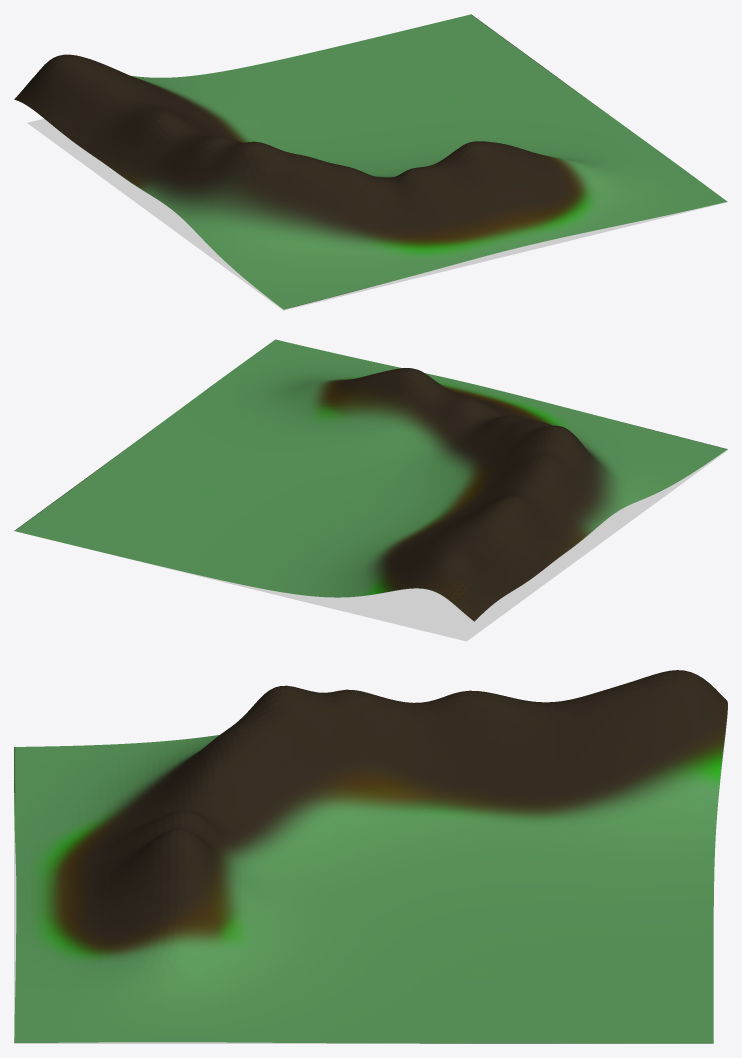
File: landscape.glb
3 renders of one model, top to bottom at view 1: azimuth 30°, elevation 25°; view 2: azimuth 150°, elevation 25°; view 3: azimuth 270°, elevation 25°, orthographic. The views are drawn at different scales.
Visible parts, largest first — view 1: Grid, Plane; view 2: Grid, Plane; view 3: Grid, Plane.
Part boxes in pixels (left/top/right/bottom): Grid: left=14, top=14, right=727, bottom=309; Plane: left=27, top=118, right=727, bottom=310; Grid: left=14, top=339, right=727, bottom=621; Plane: left=21, top=450, right=727, bottom=641; Grid: left=14, top=670, right=727, bottom=1043; Plane: left=14, top=793, right=713, bottom=1043.
Bounding box in the file's own units: 2.06 × 0.3336 × 2.04.
Materials: 1 (1 with a texture image).
